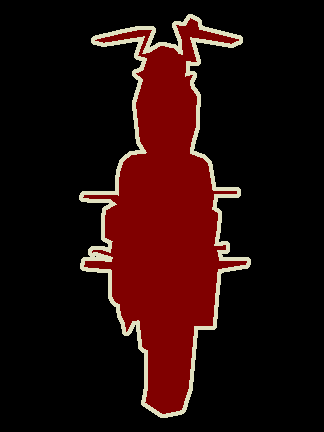motorbike: (81, 16, 249, 417)
